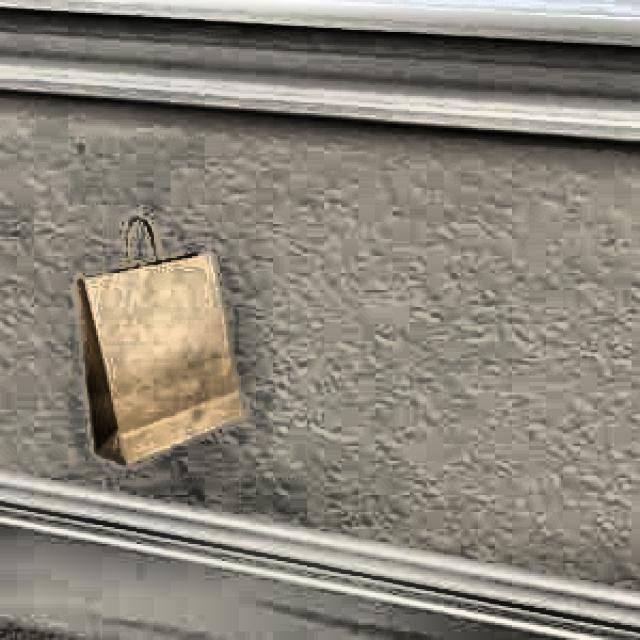Paper-bag: (61, 199, 278, 485)
